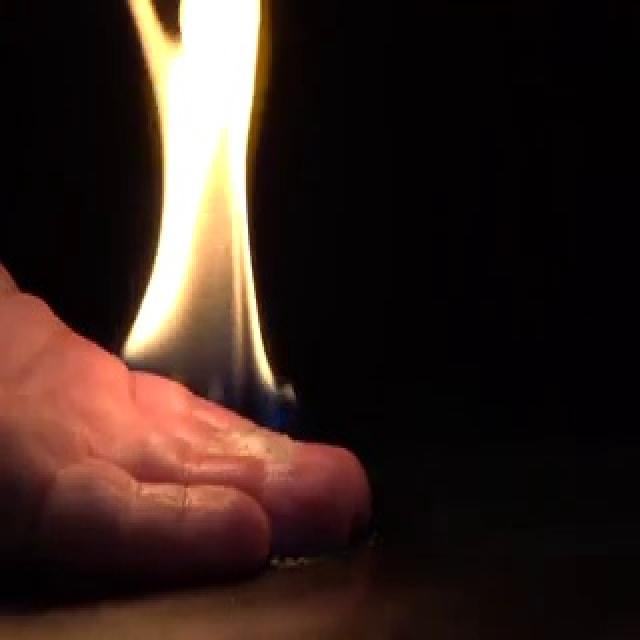fire: (117, 0, 298, 417)
